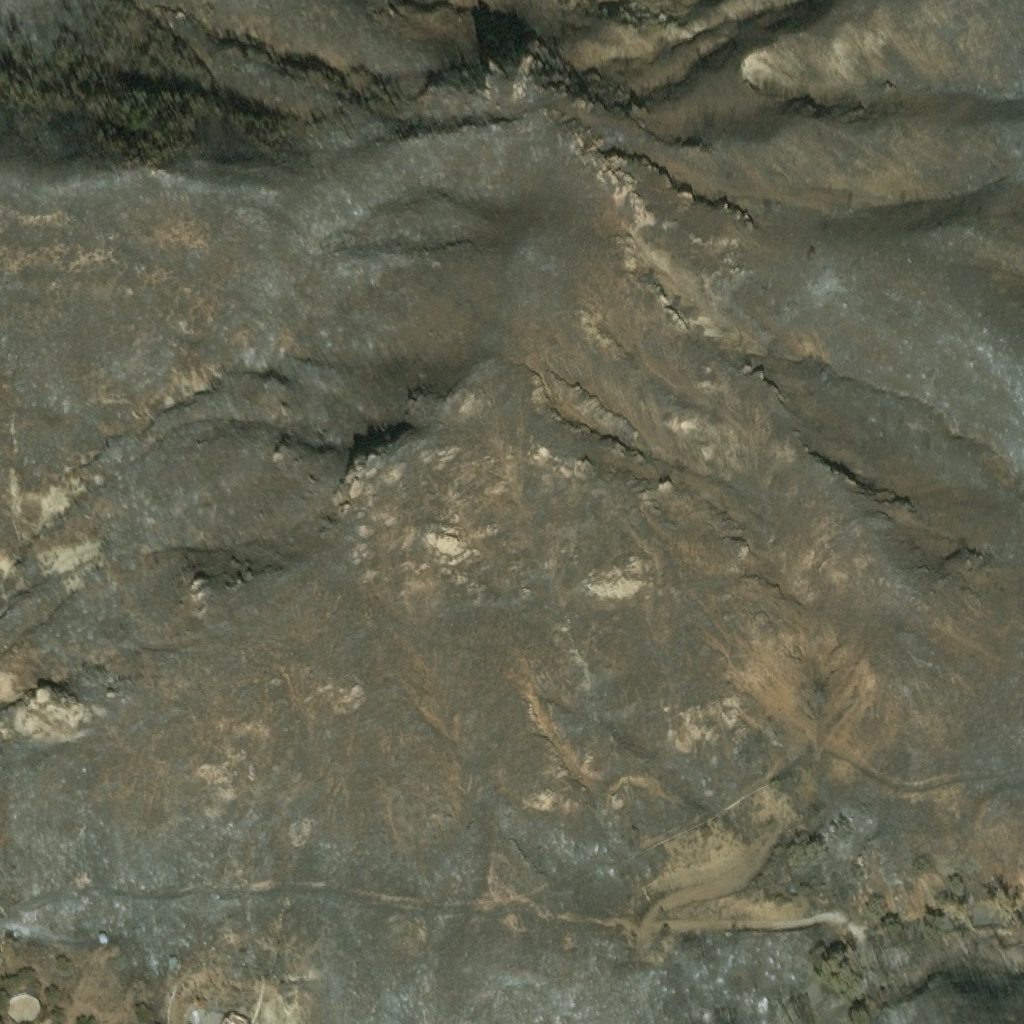3 destroyed: (216, 1006, 255, 1023), (168, 957, 177, 965), (100, 935, 108, 942)
